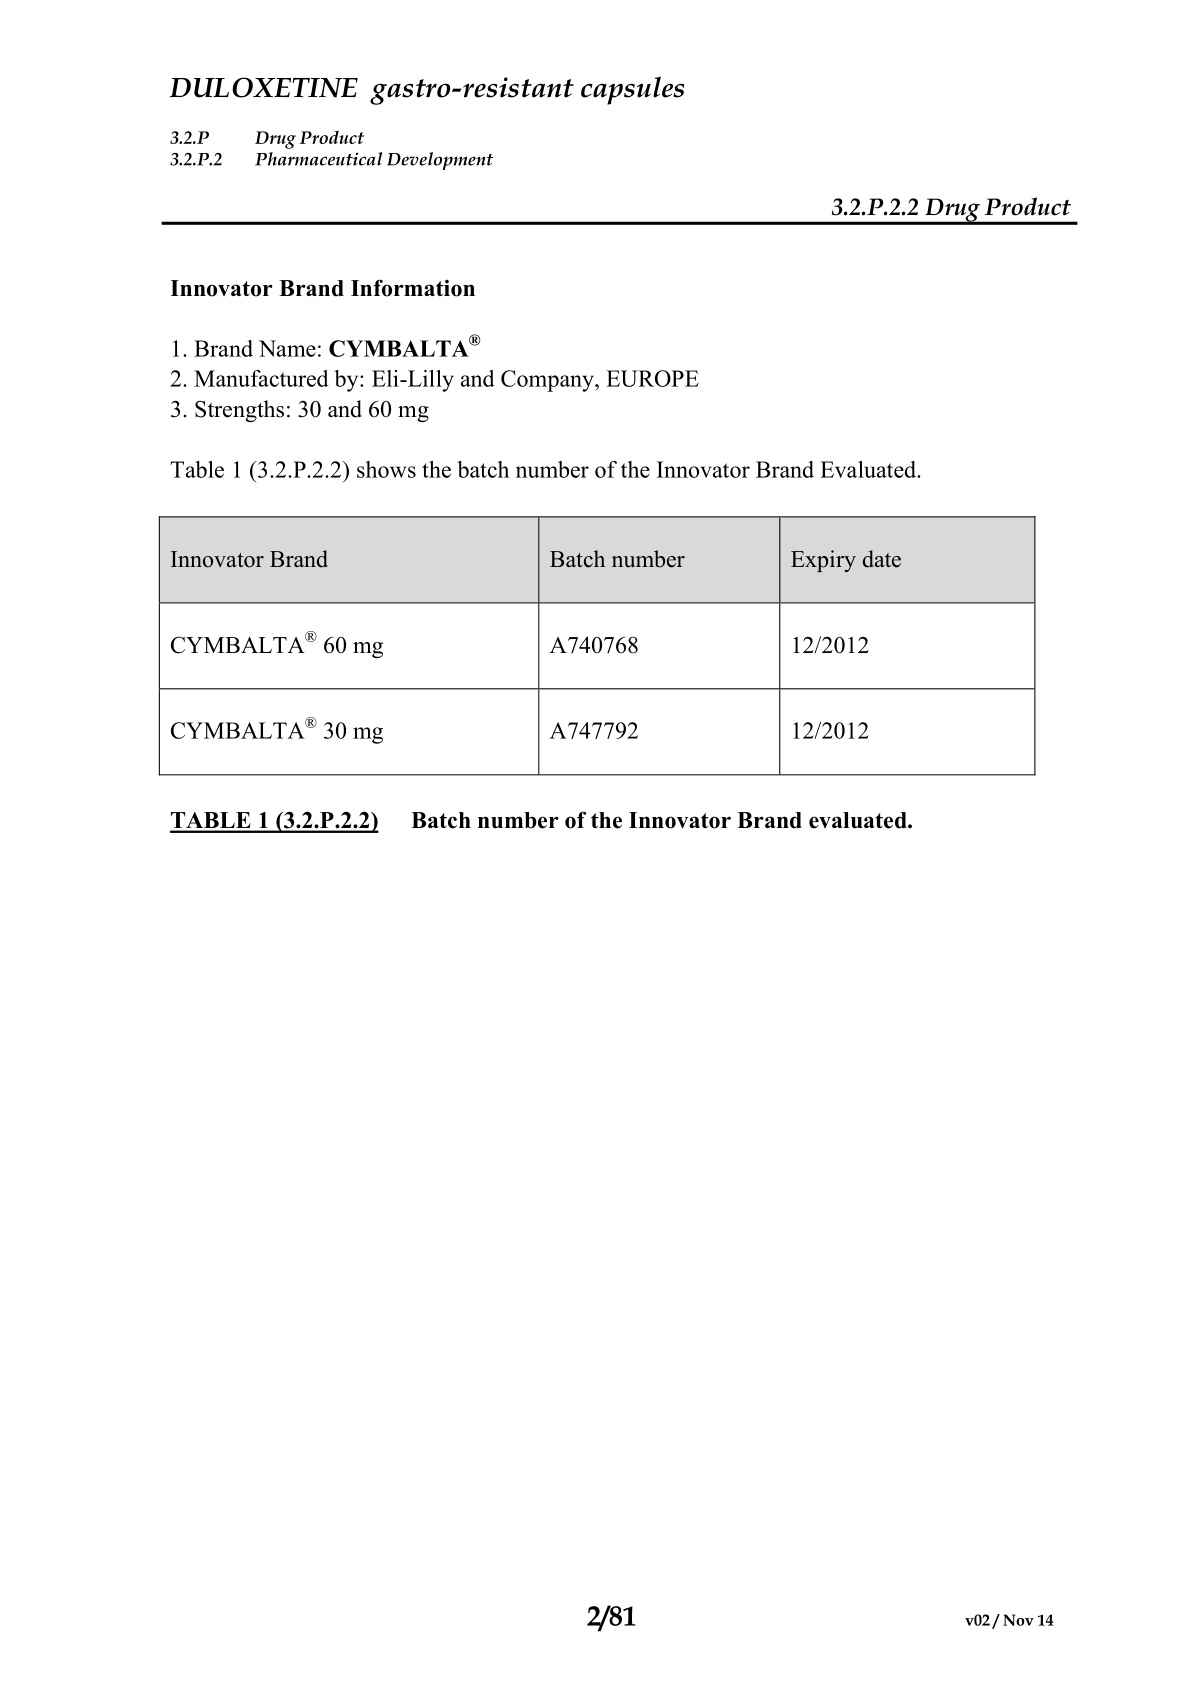full_lined: (159, 515, 1038, 777)
